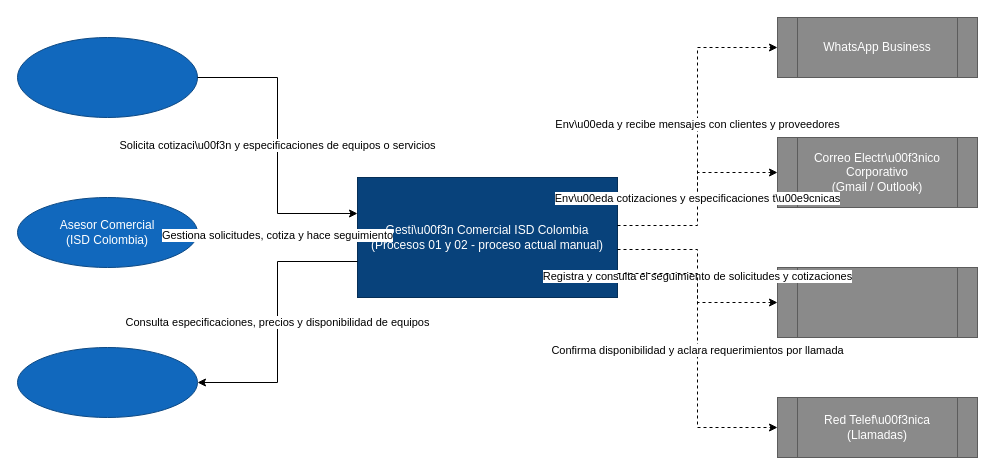
This 995x475 diagram has some shape labels left out. Here are the shapes that lost their labels. From the top down, the box of each, then its label:
(16, 36, 198, 118): Cliente (Corporativo / Propiedad Horizontal / Embajada Americana)
(776, 266, 978, 338): Hoja de C\u00e1lculo Compartida (Excel / Google Sheets)
(16, 346, 198, 418): Proveedor de Equipos
